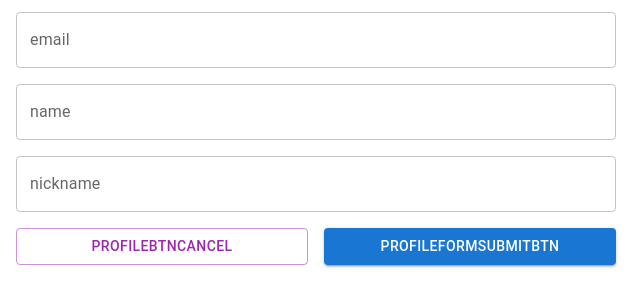
Test: ProfileForm › displays error message when name is required
This screenshot has width=634, height=307.
Type "test@example.com" into the field with test id "email" at x=316, y=40, box [16,12,616,68]
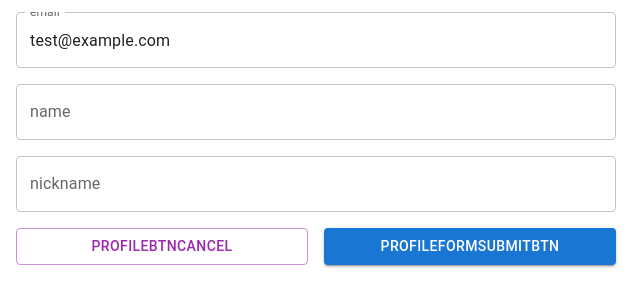
Type "Johnny" into the field with test id "nickname" at x=316, y=184, box [16,156,616,212]
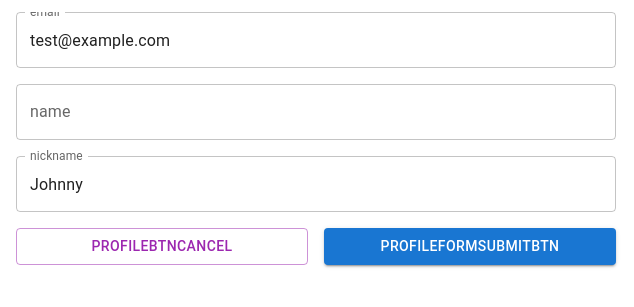
Click the button "profileFormSubmitBtn" at x=470, y=246, box [324,228,616,264]
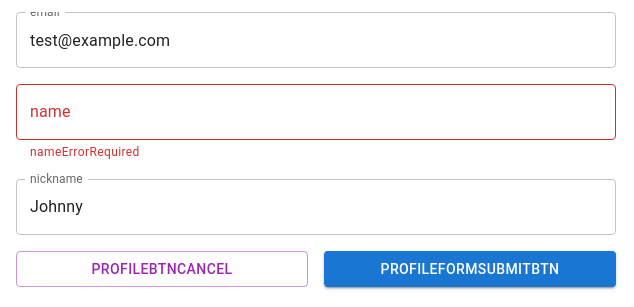
Expected: the text "nameErrorRequired" is shown, [30,145,140,159]
